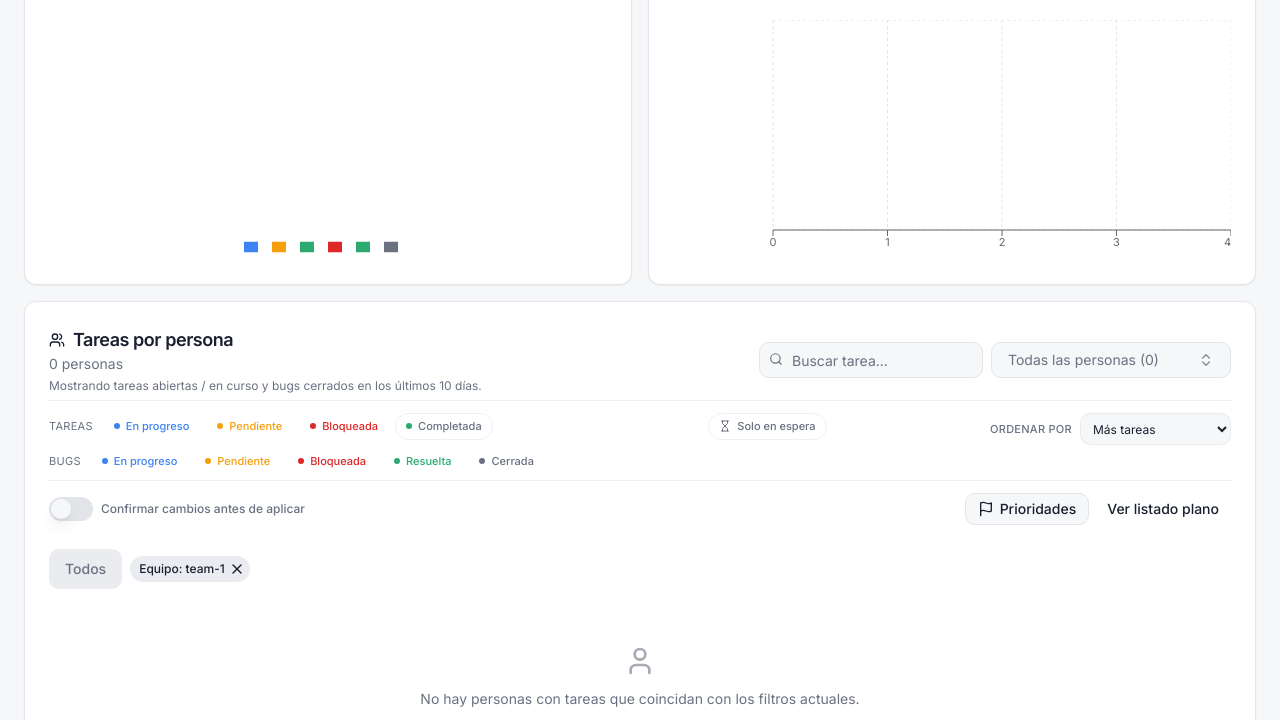
it: Tasks page — empty-state message updates as user types (debounced) › updates the message for a team + search combination
This screenshot has width=1280, height=720.
(page scrolled)
Type "zzznoteammatch" into the field with placeholder "Buscar tarea...". click: [871, 360]
box: x1=759 y1=342 x2=983 y2=378
(page scrolled)
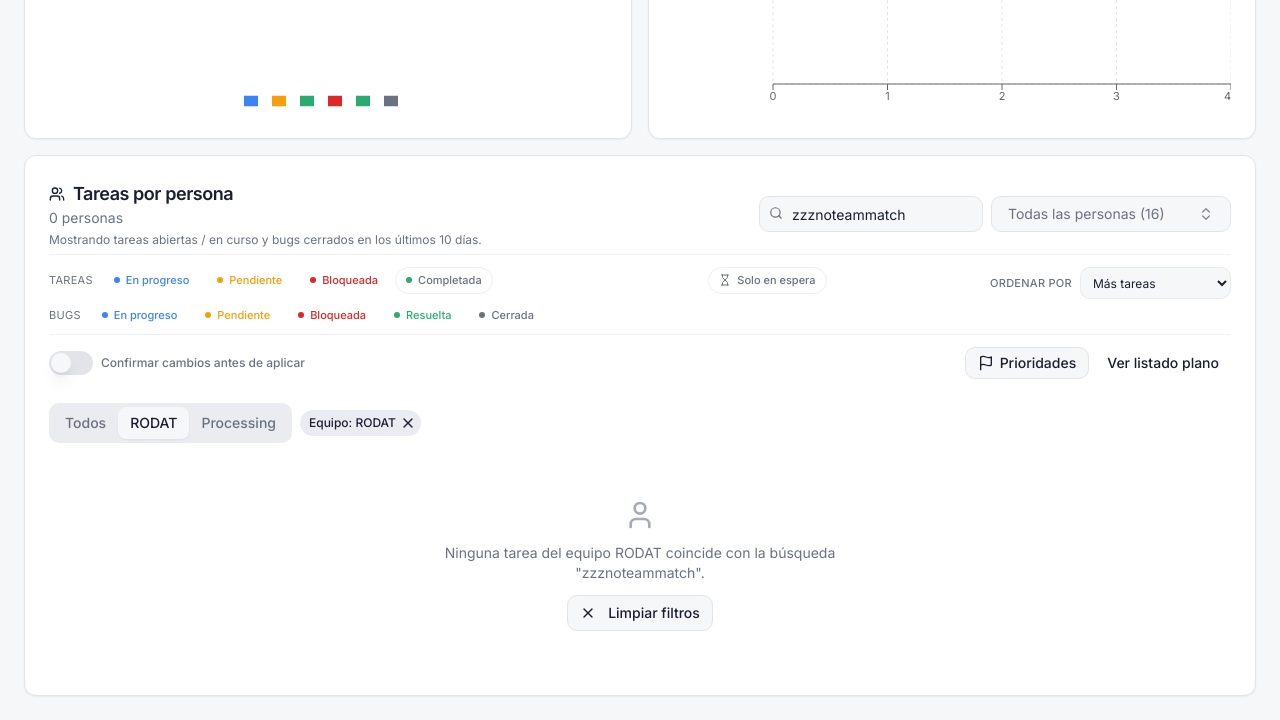
expect the message shows "RODAT": met, box x1=445 y1=544 x2=835 y2=581
expect the message shows "zzznoteammatch": met, box x1=445 y1=544 x2=835 y2=581
